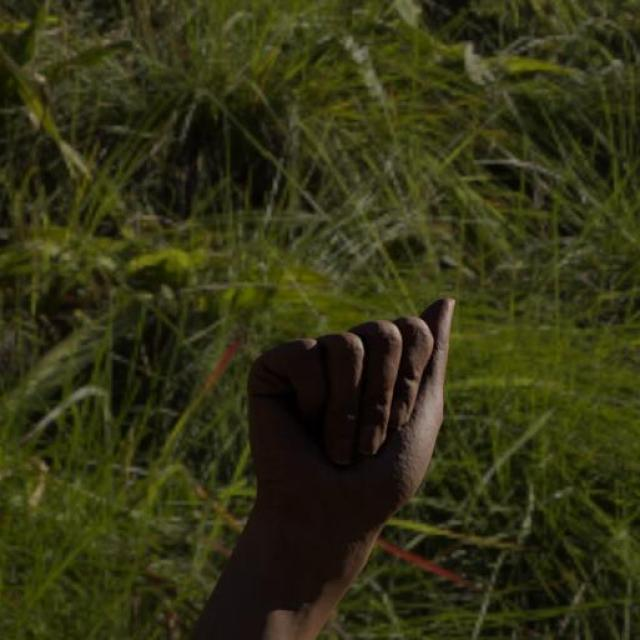A: (234, 290, 463, 540)
